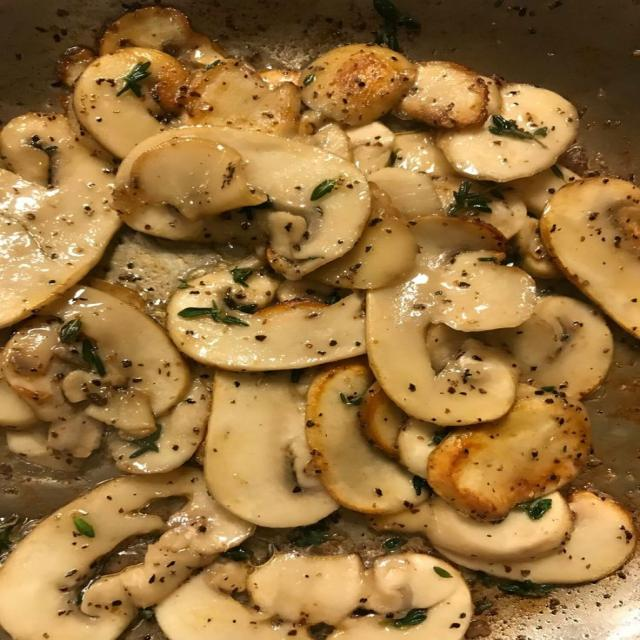champignon mushrooms: (0, 470, 253, 639), (117, 127, 370, 279), (367, 218, 535, 425), (2, 288, 189, 457), (156, 554, 472, 639), (81, 468, 254, 615), (0, 114, 119, 326), (427, 385, 591, 520), (205, 371, 337, 527), (167, 271, 366, 371), (436, 491, 635, 583), (307, 363, 426, 513), (540, 178, 639, 336), (369, 492, 573, 562), (439, 84, 578, 182), (483, 296, 613, 397), (114, 137, 266, 221), (74, 47, 186, 157), (329, 554, 473, 639), (155, 562, 310, 639), (312, 184, 417, 289), (109, 378, 211, 473), (302, 45, 416, 125), (183, 60, 300, 137), (247, 552, 367, 625), (100, 6, 224, 67), (396, 61, 488, 129), (435, 181, 528, 239), (368, 167, 442, 221), (509, 165, 579, 217), (360, 383, 406, 456), (7, 426, 79, 471), (394, 132, 459, 181), (514, 216, 561, 279), (396, 417, 440, 477), (347, 122, 394, 174), (0, 371, 38, 429), (56, 47, 95, 88)
